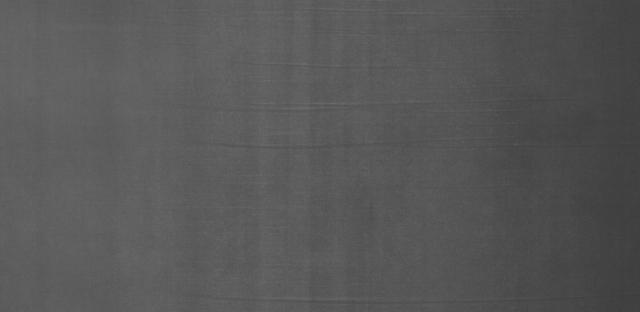waist_folding: (92, 15, 503, 272)
